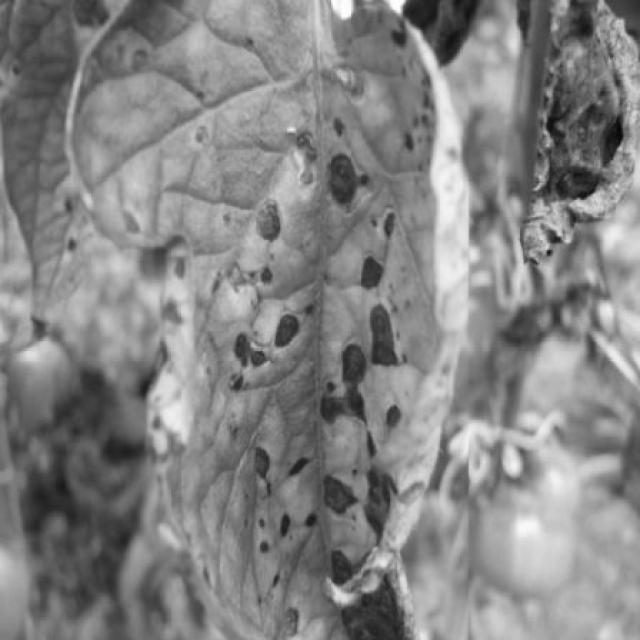Early Blight: (66, 0, 468, 640)
